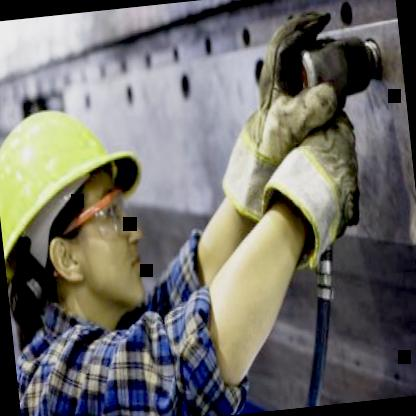helmet: (0, 78, 164, 341)
